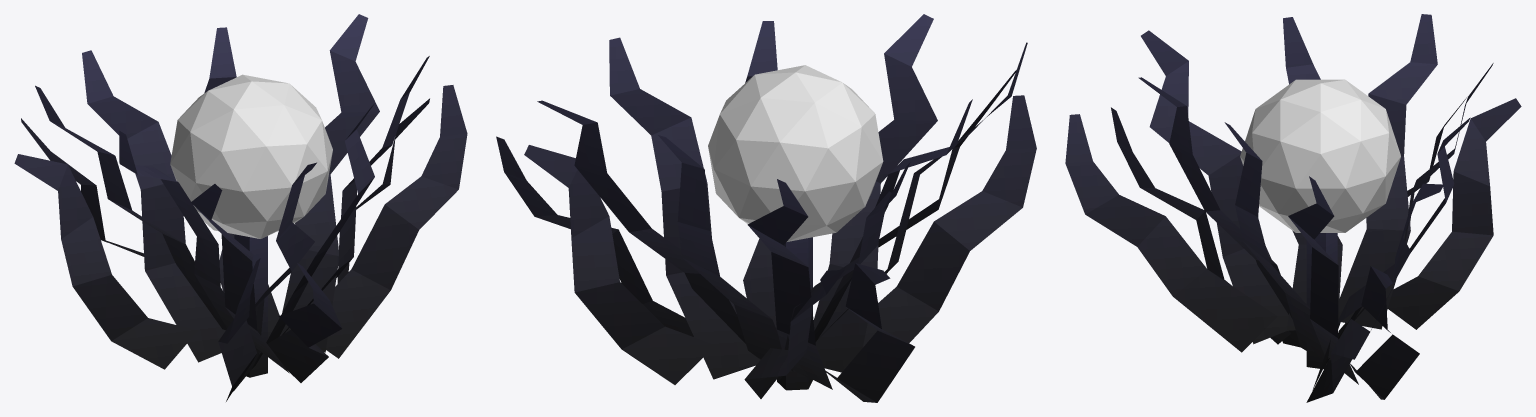
File: grassbulb.glb
3 views of the same model, side by side, from view 1: azimuth 30°, elevation 25°; view 2: azimuth 150°, elevation 25°; view 3: azimuth 270°, elevation 25° (orthographic). The views are drawn at different scales.
Parts seen in each view (by area): view 1: Cylinder.001; view 2: Cylinder.001; view 3: Cylinder.001.
Boxes of the visible parts, x1,y1,x2,y2 form: Cylinder.001: (14, 14, 467, 401); Cylinder.001: (496, 14, 1036, 402); Cylinder.001: (1065, 14, 1521, 402).
Bounding box in the file's own units: 12.71 × 8.78 × 12.78.
2 materials, 1 textured.
